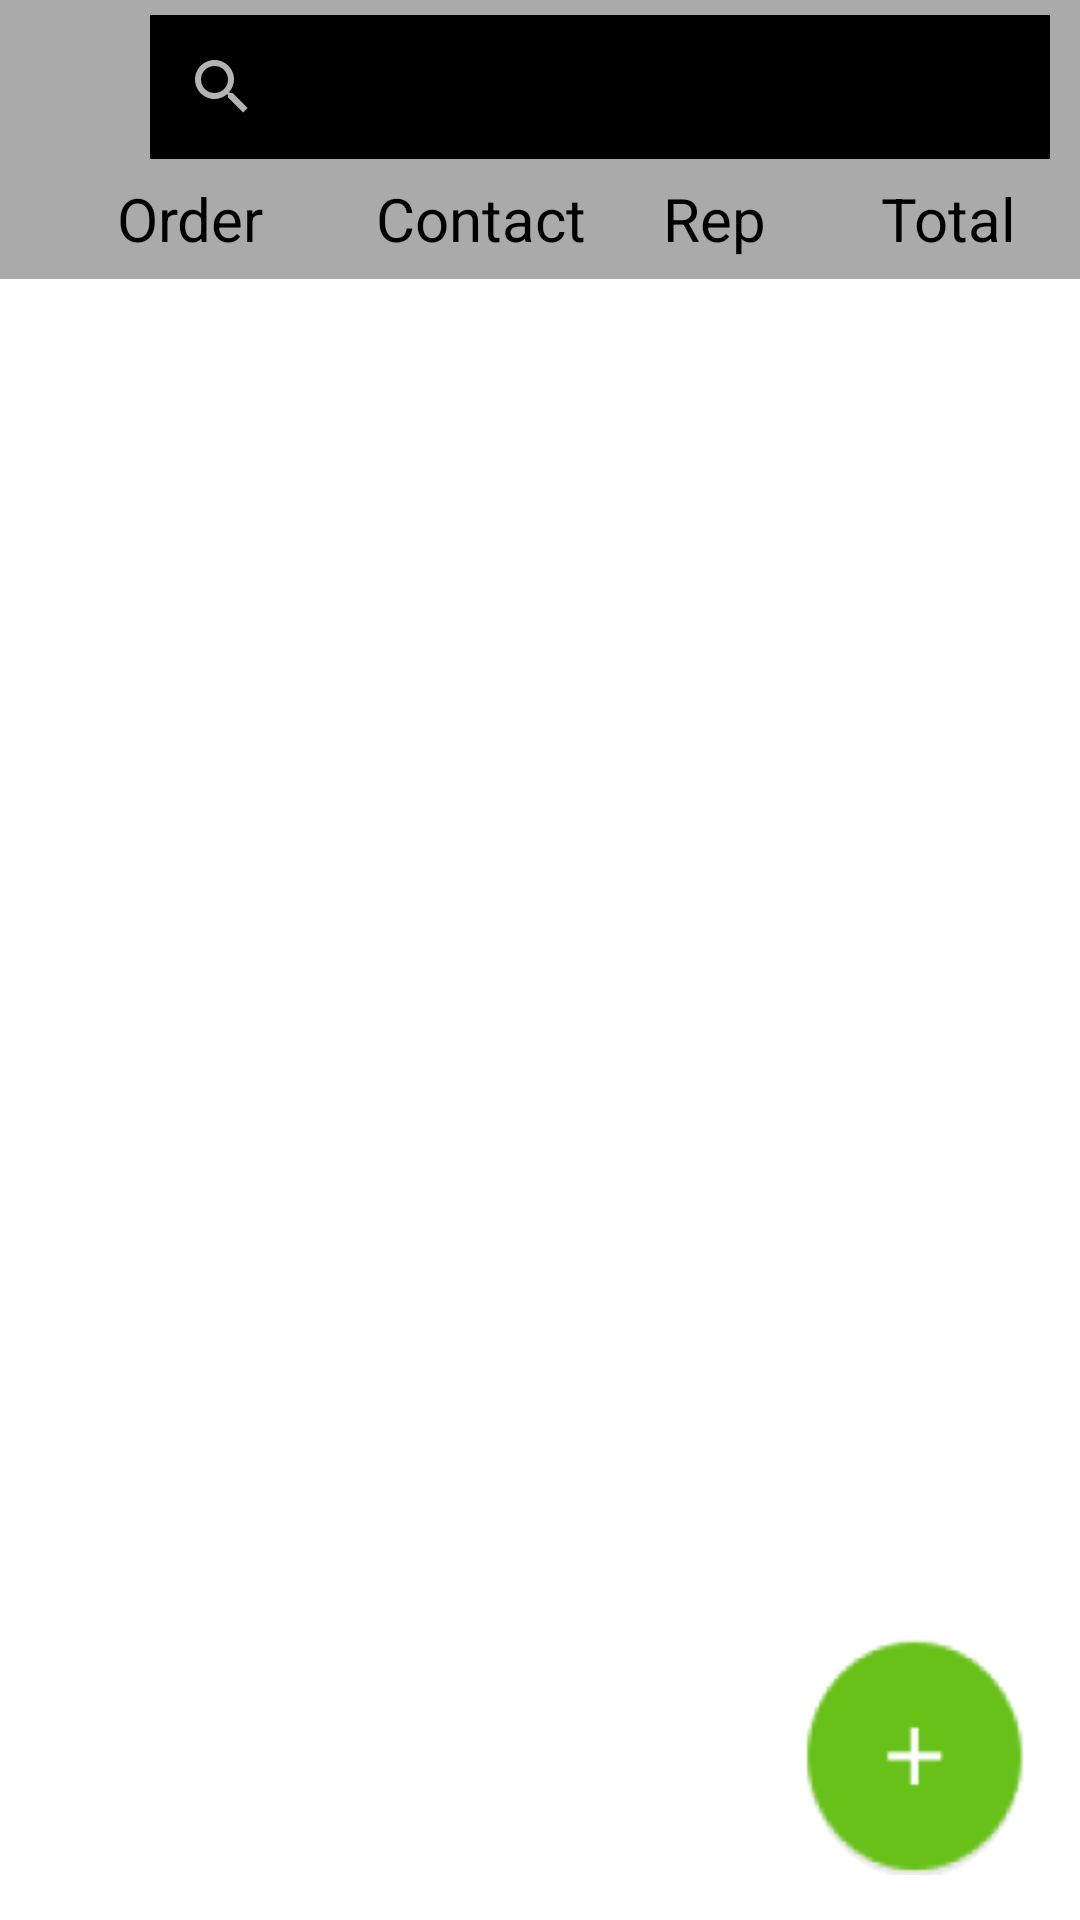

Point at icon controls on the screen. Image size 1080 × 1920, points as (x,y).
plus: (915,1756)
